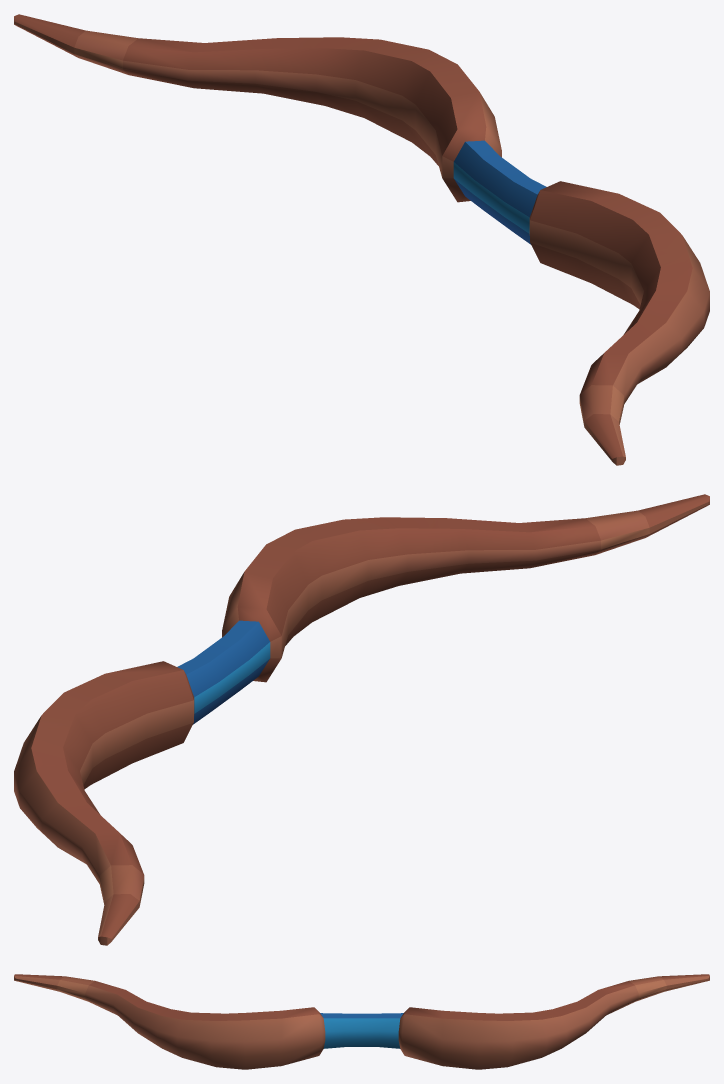
Rendered from w_bow.glb.
The picture shows the model from 3 angles, top to bottom: view 1: azimuth 30°, elevation 25°; view 2: azimuth 150°, elevation 25°; view 3: azimuth 270°, elevation 25°; orthographic projection. The views are drawn at different scales.
Parts seen in each view (by area): view 1: bow; view 2: bow; view 3: bow.
Part boxes in pixels (x1,y1,x2,y2): bow: (14,14,709,465); bow: (14,494,709,945); bow: (14,974,709,1069).
Bounding box in the file's own units: 0.4942 × 0.1555 × 1.98.
Materials: 1 (1 with a texture image).
